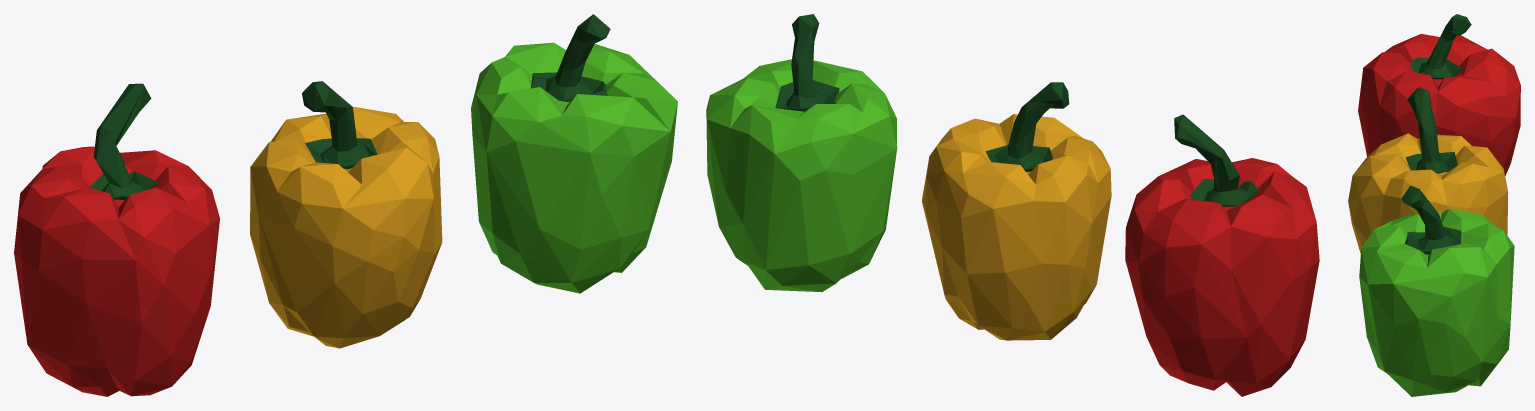
The model's file is Pepper.FBX.
The picture shows the model from 3 angles, left to right: view 1: azimuth 30°, elevation 25°; view 2: azimuth 150°, elevation 25°; view 3: azimuth 270°, elevation 25°; orthographic projection. The views are drawn at different scales.
Visible parts, largest first — view 1: Pepper red, Pepper green, Pepper yellow, Tail red, Teil yellow, Teil green; view 2: Pepper red, Pepper green, Pepper yellow, Tail red, Teil yellow, Teil green; view 3: Pepper green, Pepper red, Pepper yellow, Teil yellow, Teil green, Tail red.
Boxes of the visible parts, box(x1,y1,x2,y2) form: Pepper red: box(14, 146, 219, 396); Pepper green: box(471, 42, 677, 293); Pepper yellow: box(250, 106, 442, 348); Tail red: box(89, 83, 158, 200); Teil yellow: box(302, 81, 377, 169); Teil green: box(530, 14, 610, 102); Pepper red: box(1125, 158, 1319, 396); Pepper green: box(706, 59, 897, 291); Pepper yellow: box(922, 114, 1111, 340); Tail red: box(1174, 114, 1258, 206); Teil yellow: box(985, 82, 1069, 171); Teil green: box(775, 14, 839, 111); Pepper green: box(1359, 208, 1514, 396); Pepper red: box(1358, 34, 1520, 175); Pepper yellow: box(1348, 133, 1508, 253); Teil yellow: box(1405, 87, 1457, 173); Teil green: box(1402, 185, 1461, 254); Tail red: box(1410, 14, 1471, 79).
Size of the model in its own units: 351 by 148 by 108.
